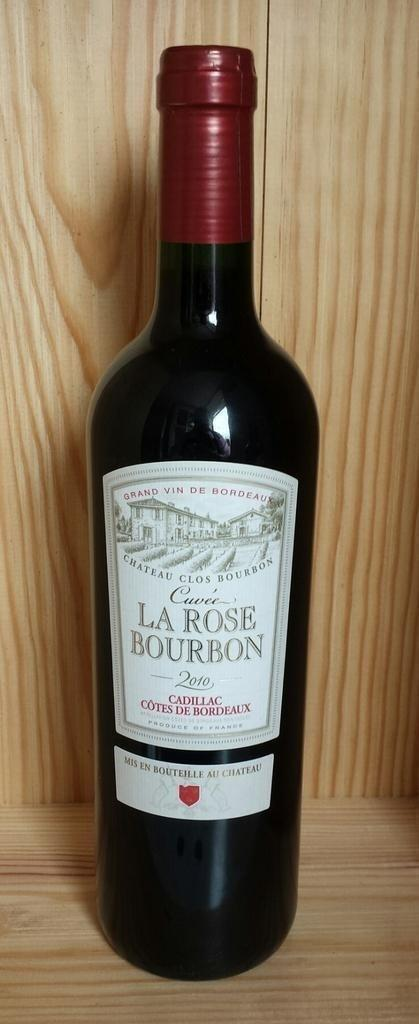bottle-glass: (82, 38, 323, 984)
